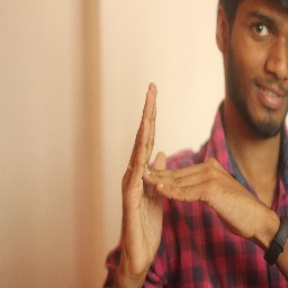Z: (105, 79, 267, 263)
